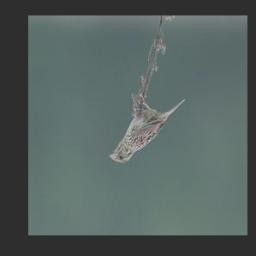Sparrow: (110, 93, 187, 165)
